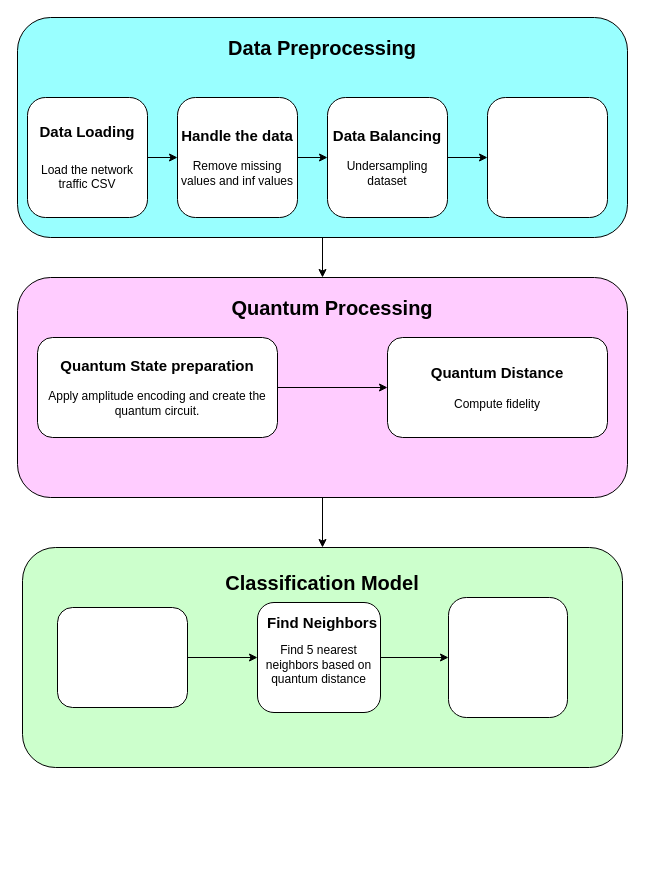
This 645x891 diagram has some shape labels left out. The centre of each missing label's shape, as x and y in pixels:
Classification Classify data packet: the point at 508,657
Feature Scaling Apply feature scaling to the data: the point at 547,157
Set value of k Choose k=5: the point at 122,657
